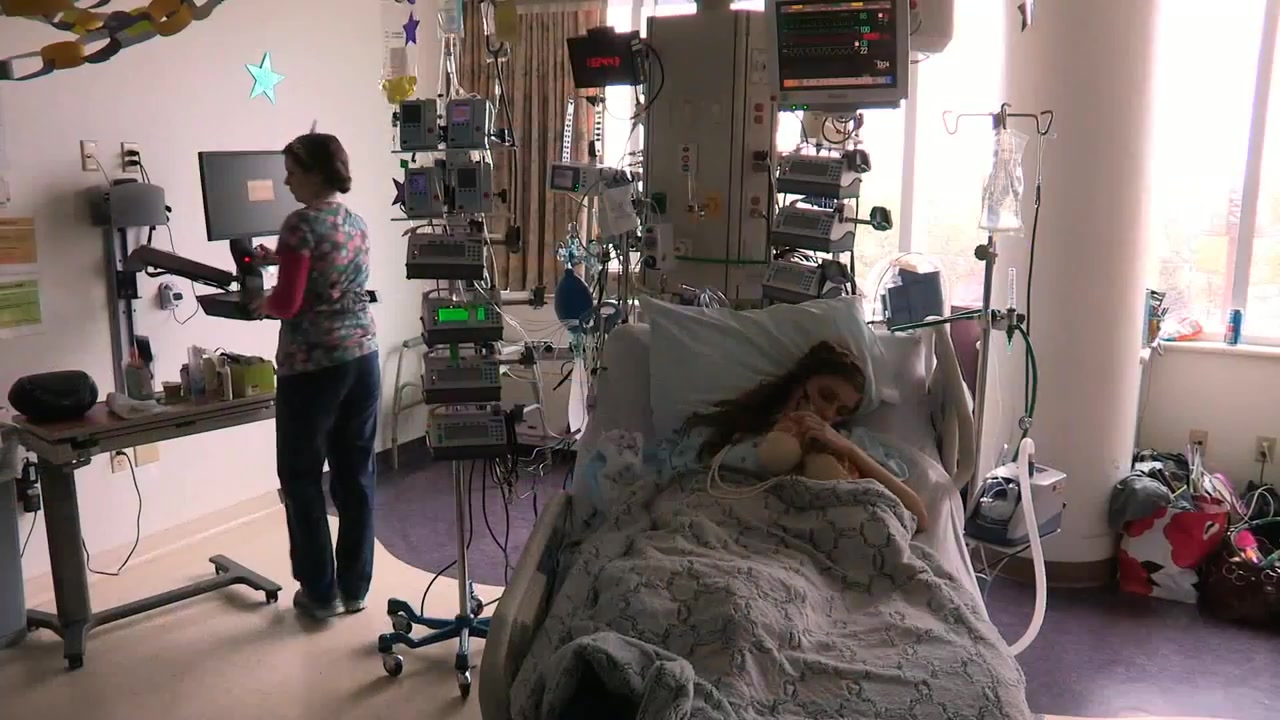bedrail: (474, 488, 573, 720)
bedside_monitor: (767, 1, 909, 110), (199, 151, 307, 241)
breathing_tube: (1003, 426, 1049, 655)
curtain: (442, 1, 608, 296)
hospital_bed: (479, 296, 1035, 720)
infusion_pump: (448, 99, 487, 152), (453, 164, 492, 217), (402, 167, 441, 220), (398, 98, 437, 151)
iv_pole: (943, 104, 1059, 450), (432, 6, 495, 612)
overbed_table: (11, 376, 304, 672)
patient: (678, 342, 930, 567)
staff: (245, 130, 383, 622)
syringe_pump: (405, 234, 495, 280), (420, 296, 510, 342), (425, 414, 515, 460), (418, 358, 508, 403), (768, 206, 854, 251), (773, 150, 859, 195), (756, 261, 842, 306)
